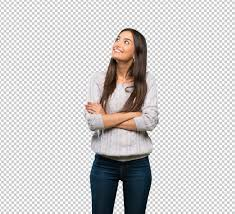person: (86, 21, 160, 144)
